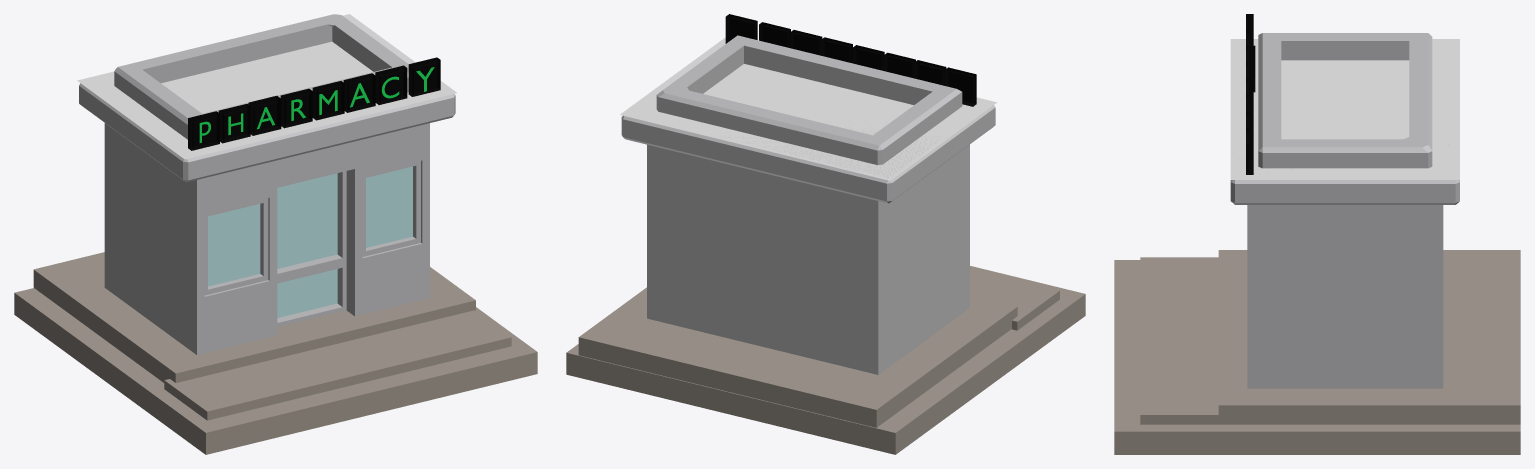
File: pharmacy!.fbx
3 views of the same model, side by side, from view 1: azimuth 30°, elevation 25°; view 2: azimuth 150°, elevation 25°; view 3: azimuth 270°, elevation 25° (orthographic). The views are drawn at different scales.
Parts seen in each view (by area): view 1: Plane.004, Plane, Plane.006, Plane.002, Plane.001, Plane.007, Plane.009, Plane.008, Plane.017, Plane.018, Plane.013, Plane.011 (+4 smaller); view 2: Plane.004, Plane.006, Plane.002, Plane, Plane.007, Plane.001, Plane.011, Plane.018, Plane.017, Plane.015, Plane.013, Plane.014 (+2 smaller); view 3: Plane.004, Plane.002, Plane.006, Plane.007, Plane, Plane.001.
Part boxes in pixels (left/top/right/bottom): Plane.004: left=104, top=123, right=429, bottom=354; Plane: left=14, top=288, right=537, bottom=454; Plane.006: left=79, top=14, right=455, bottom=182; Plane.002: left=33, top=252, right=475, bottom=382; Plane.001: left=164, top=310, right=511, bottom=420; Plane.007: left=77, top=14, right=456, bottom=159; Plane.009: left=277, top=173, right=337, bottom=317; Plane.008: left=208, top=166, right=412, bottom=286; Plane.017: left=375, top=65, right=407, bottom=104; Plane.018: left=408, top=57, right=440, bottom=96; Plane.013: left=248, top=95, right=281, bottom=135; Plane.011: left=188, top=111, right=219, bottom=150; Plane.004: left=647, top=144, right=969, bottom=374; Plane.006: left=621, top=35, right=995, bottom=203; Plane.002: left=578, top=287, right=1017, bottom=427; Plane: left=566, top=266, right=1085, bottom=454; Plane.007: left=620, top=37, right=996, bottom=180; Plane.001: left=970, top=268, right=1059, bottom=330; Plane.011: left=944, top=67, right=976, bottom=106; Plane.018: left=725, top=14, right=757, bottom=43; Plane.017: left=759, top=22, right=790, bottom=47; Plane.015: left=821, top=37, right=852, bottom=63; Plane.013: left=883, top=52, right=915, bottom=78; Plane.014: left=852, top=45, right=884, bottom=70; Plane.004: left=1247, top=205, right=1443, bottom=388; Plane.002: left=1218, top=250, right=1520, bottom=424; Plane.006: left=1230, top=33, right=1459, bottom=204; Plane.007: left=1230, top=39, right=1459, bottom=179; Plane: left=1114, top=260, right=1520, bottom=454; Plane.001: left=1140, top=257, right=1218, bottom=424.
Size of the model in its own units: 568 by 453 by 568.
